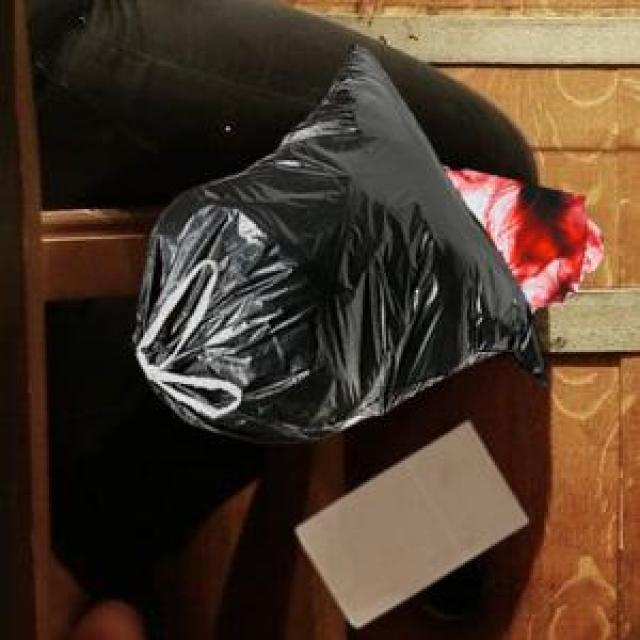miscellaneous trash: (126, 38, 544, 440)
paper: (292, 418, 523, 623)
